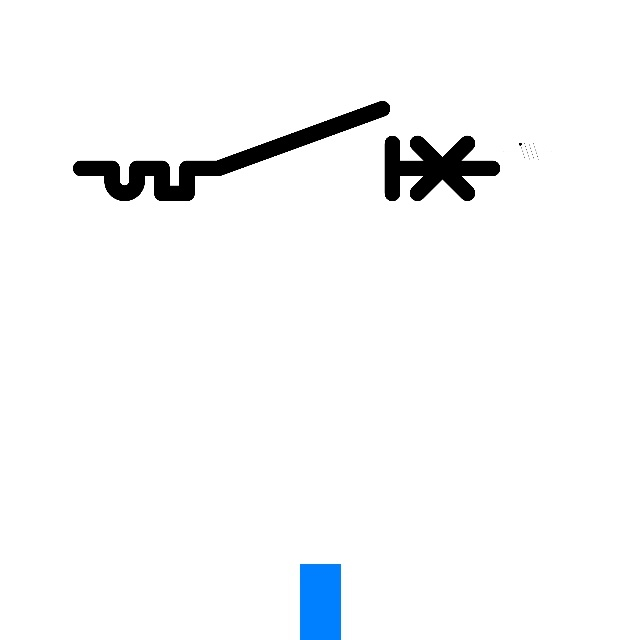interruptor_termomagnetico: (70, 98, 503, 204)
